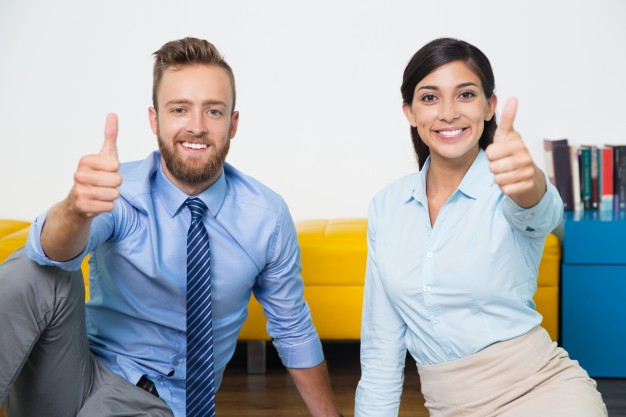thumbsup: (73, 113, 123, 213), (486, 97, 536, 195)
